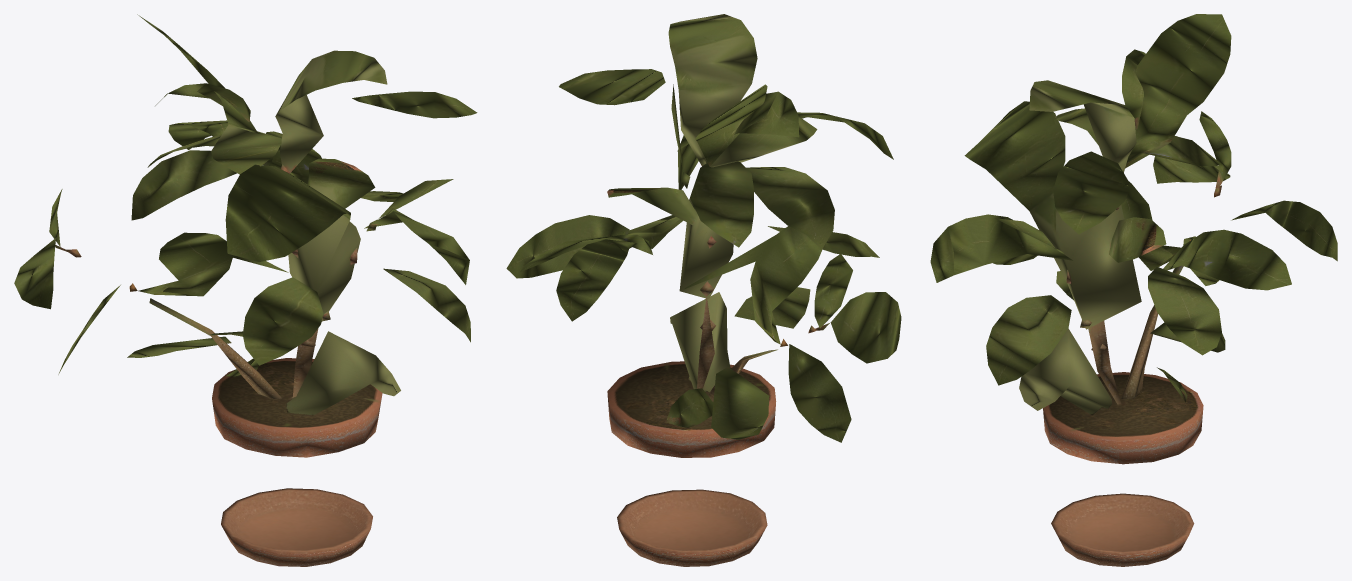
3 renders of one model, left to right at view 1: azimuth 30°, elevation 25°; view 2: azimuth 150°, elevation 25°; view 3: azimuth 270°, elevation 25°, orthographic. The views are drawn at different scales.
Visible parts, largest first — view 1: tripo_node_0f7c8dcc-0838-44af-904b-3a1c746fac8a; view 2: tripo_node_0f7c8dcc-0838-44af-904b-3a1c746fac8a; view 3: tripo_node_0f7c8dcc-0838-44af-904b-3a1c746fac8a.
Part boxes in pixels (bbox=[...]): tripo_node_0f7c8dcc-0838-44af-904b-3a1c746fac8a: bbox=[14, 14, 477, 566]; tripo_node_0f7c8dcc-0838-44af-904b-3a1c746fac8a: bbox=[506, 14, 901, 566]; tripo_node_0f7c8dcc-0838-44af-904b-3a1c746fac8a: bbox=[930, 14, 1337, 566].
Size of the model in its own units: 0.8027 by 0.998 by 0.7715.
1 material, 1 textured.
